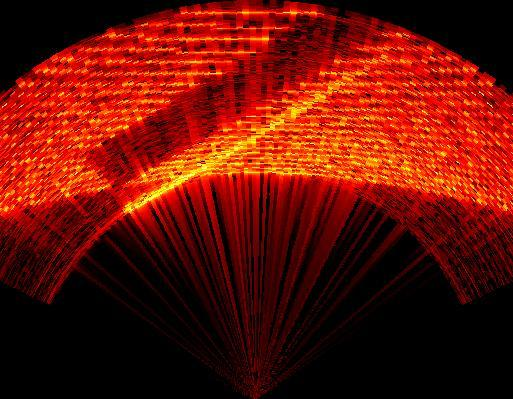pipe: (87, 7, 395, 193)
